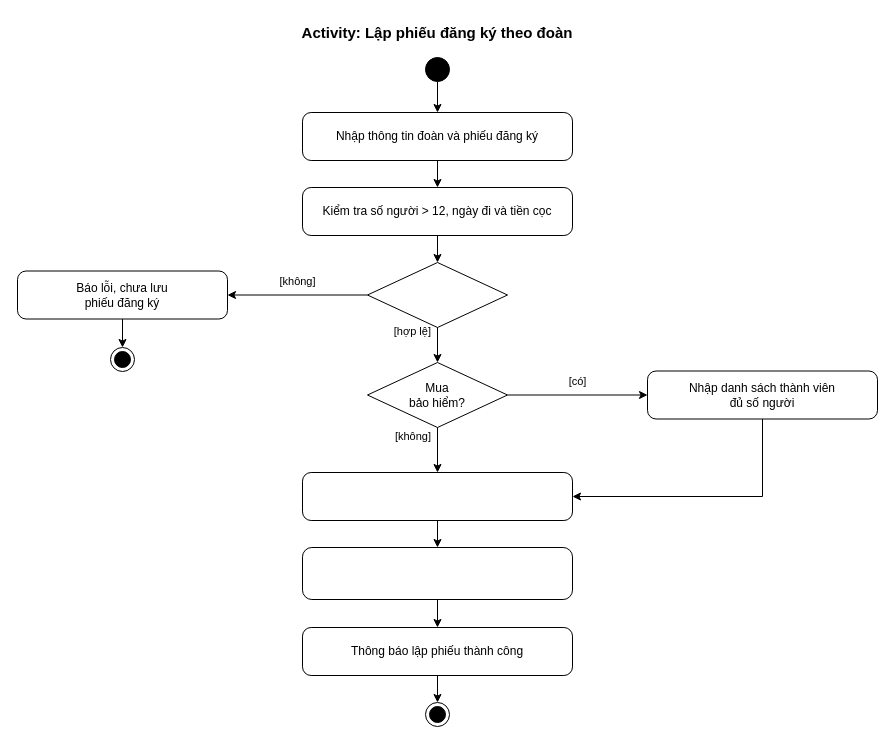
Image size: 895x744. Some labels were removed from this diagram. The shapes that lost their labels are listed below. From the top down, each one's centre as x and y in pixels, then its label:
At (437,295): "Dữ liệu hợp lệ?".
At (437,496): "Tính ngày kết thúc và tổng tiền dự kiến".
At (437,573): "Lưu đoàn, phiếu và thành viên trong một transaction".
